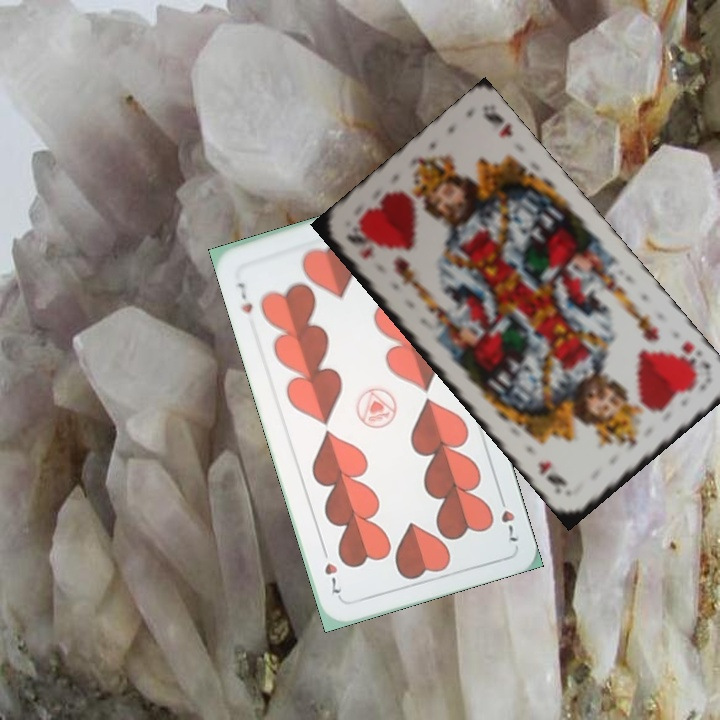H7: (494, 489, 521, 545), (233, 278, 256, 316)
HK: (677, 337, 714, 377), (342, 230, 375, 262)
